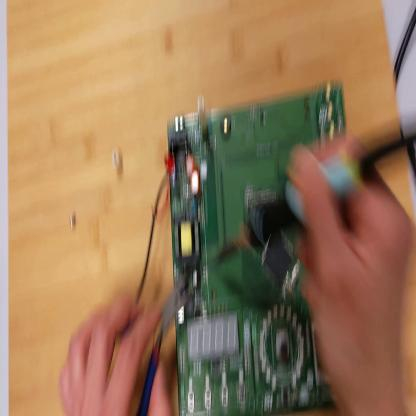hand: (290, 141, 416, 416), (58, 296, 169, 416)
low voltage board: (138, 68, 350, 416)
pliers: (125, 268, 198, 412)
welder probe tip: (210, 124, 416, 267)
working area: (7, 2, 415, 413)
